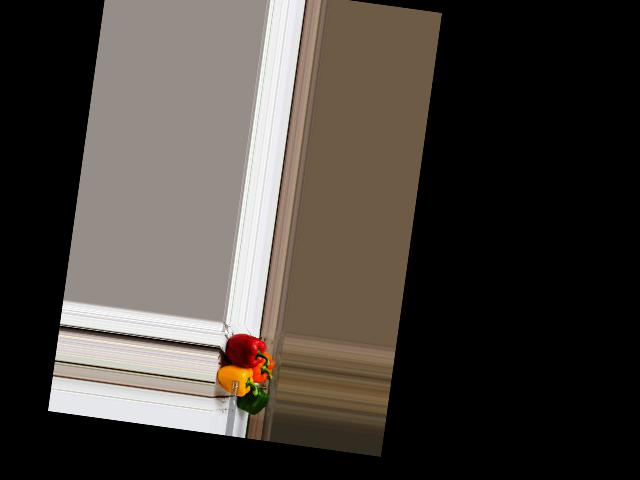bell_pepper: (248, 350, 276, 386)
